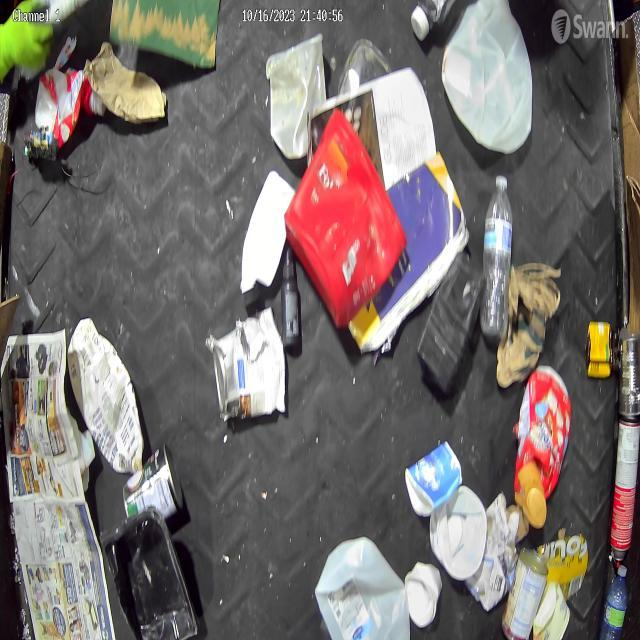can: (204, 306, 286, 424), (121, 440, 186, 520), (500, 545, 550, 640), (618, 326, 640, 416), (584, 320, 614, 380)
milk_jug: (441, 0, 534, 155), (314, 536, 412, 640)
non_white_jug: (284, 104, 408, 331), (68, 318, 144, 473), (513, 366, 572, 528)
plastic_bottle: (479, 173, 514, 341), (598, 561, 628, 640)
